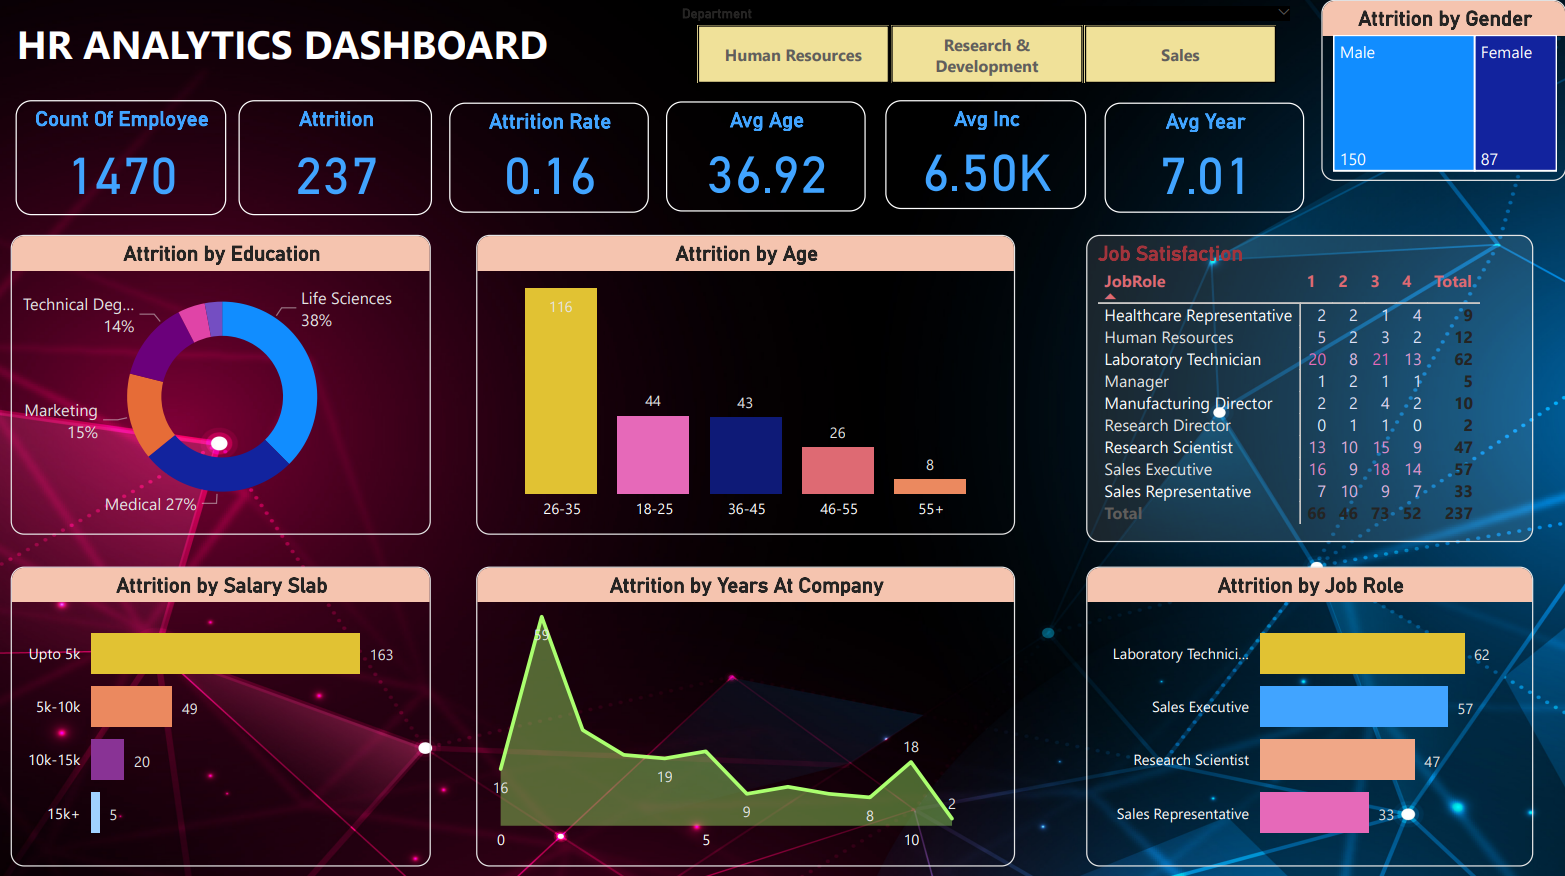

This screenshot's page, from the dashboard's own definition file:
{"tool":"powerbi","page":{"name":"Page 1","canvas":[1280,720],"ordinal":0},"visuals":[{"type":"card","title":"Count Of Employee","fields":{"Values":["CountNonNull(HR_Analytics.EmpID)"]},"box":[14.4,82.2,171.7,93.3],"z":0},{"type":"card","title":"Attrition","fields":{"Values":["Sum(HR_Analytics.Attritioncount)"]},"box":[196.1,82.2,158.3,93.3],"z":1000},{"type":"card","title":"Attrition Rate","fields":{"Values":["HR_Analytics.Attritionrate"]},"box":[367.8,83.9,163.3,90],"z":2000},{"type":"card","title":"Avg Age","fields":{"Values":["Avg(HR_Analytics.Age)"]},"box":[545,83.3,163.3,90],"z":3000},{"type":"card","title":"Avg Inc","fields":{"Values":["Avg(HR_Analytics.MonthlyIncome)"]},"box":[724.4,82.2,163.3,88.3],"z":4000},{"type":"card","title":"Avg Year","fields":{"Values":["Avg(HR_Analytics.YearsAtCompany)"]},"box":[902.8,83.9,163,90],"z":5000},{"type":"donutChart","title":"Attrition by Education","fields":{"Category":["HR_Analytics.EducationField"],"Y":["Sum(HR_Analytics.Attritioncount)"]},"box":[10,191.7,343.3,245],"z":6000},{"type":"columnChart","title":"Attrition by Age","fields":{"Y":["Sum(HR_Analytics.Attritioncount)"],"Category":["HR_Analytics.AgeGroup"]},"box":[390,191.7,440,245],"z":7000},{"type":"pivotTable","title":"Job Satisfaction","fields":{"Rows":["HR_Analytics.JobRole"],"Columns":["HR_Analytics.JobSatisfaction"],"Values":["Sum(HR_Analytics.Attritioncount)"]},"box":[888.3,191.7,365,251.7],"z":8000},{"type":"barChart","title":"Attrition by Salary Slab","fields":{"Category":["HR_Analytics.SalarySlab"],"Y":["Sum(HR_Analytics.Attritioncount)"]},"box":[10,463.3,343.3,245],"z":9000},{"type":"barChart","title":"Attrition by Job Role","fields":{"Y":["Sum(HR_Analytics.Attritioncount)"],"Category":["HR_Analytics.JobRole"]},"box":[888.3,463.3,365,245],"z":10000},{"type":"areaChart","title":"Attrition by Years At Company","fields":{"Y":["Sum(HR_Analytics.Attritioncount)"],"Category":["HR_Analytics.YearsAtCompany"]},"box":[390,463.3,440,245],"z":11000},{"type":"treemap","title":"Attrition by Gender","fields":{"Values":["Sum(HR_Analytics.Attritioncount)"],"Group":["HR_Analytics.Gender"]},"box":[1080,0,200,148.3],"z":12000},{"type":"slicer","fields":{"Values":["HR_Analytics.Department"]},"box":[545,0,521.7,75],"z":13000},{"type":"textbox","box":[10,8.3,570,73.3],"z":14000}]}

Visuals, with their boxes in screenshot pixels (x1, y1, x2, y2), scaled from the page's 1280x720 canvas onto the 1565x876 screenshot:
"Count Of Employee" card: 18,100,228,214
"Attrition" card: 240,100,433,214
"Attrition Rate" card: 450,102,649,212
"Avg Age" card: 666,101,866,211
"Avg Inc" card: 886,100,1085,207
"Avg Year" card: 1104,102,1303,212
"Attrition by Education" donutChart: 12,233,432,531
"Attrition by Age" columnChart: 477,233,1015,531
"Job Satisfaction" pivotTable: 1086,233,1532,539
"Attrition by Salary Slab" barChart: 12,564,432,862
"Attrition by Job Role" barChart: 1086,564,1532,862
"Attrition by Years At Company" areaChart: 477,564,1015,862
"Attrition by Gender" treemap: 1320,0,1564,180
slicer - HR_Analytics.Department: 666,0,1304,91
textbox: 12,10,709,99
